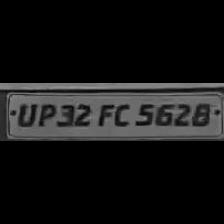2: (72, 100, 92, 128), (170, 100, 190, 126)
3: (56, 100, 75, 128)
5: (130, 100, 154, 126)
6: (154, 100, 174, 126)
8: (189, 100, 213, 126)
C: (108, 100, 130, 128)
F: (94, 100, 114, 128)
P: (34, 100, 56, 126)
U: (12, 100, 36, 126)
